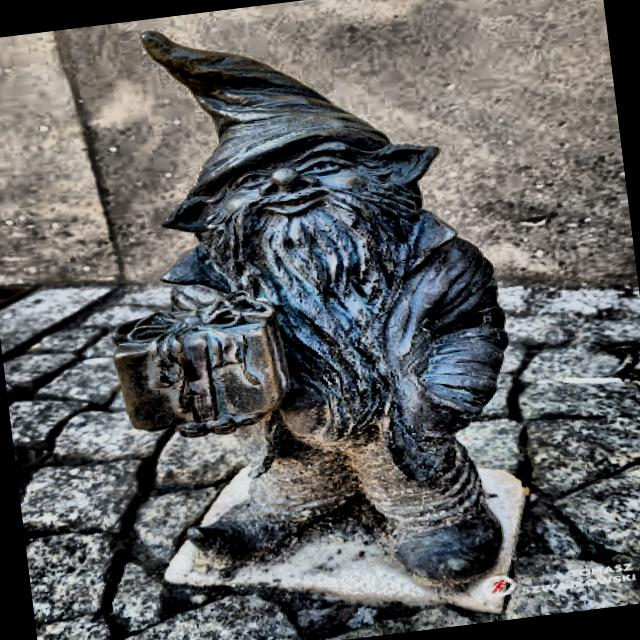Suvenirek: (115, 33, 508, 588)
